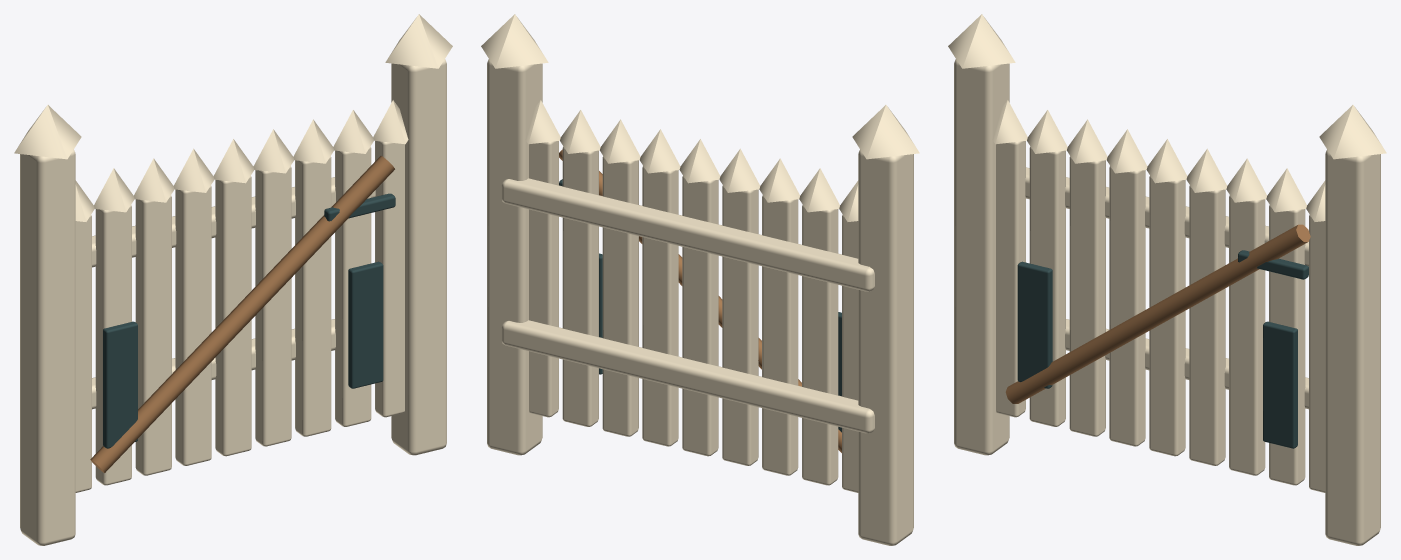
The model's file is almanac-gardens-garden-gate-0aa9f052__22014.glb.
The picture shows the model from 3 angles, left to right: view 1: azimuth 30°, elevation 25°; view 2: azimuth 150°, elevation 25°; view 3: azimuth 330°, elevation 25°; orthographic projection.
Visible parts, largest first — view 1: garden-gate-ivory, garden-gate-iron, garden-gate-oak; view 2: garden-gate-ivory, garden-gate-iron, garden-gate-oak; view 3: garden-gate-ivory, garden-gate-iron, garden-gate-oak.
Boxes of the visible parts, x1,y1,x2,y2 form: garden-gate-ivory: [14, 14, 452, 545]; garden-gate-iron: [103, 193, 395, 448]; garden-gate-oak: [90, 156, 394, 472]; garden-gate-ivory: [481, 14, 919, 545]; garden-gate-iron: [559, 179, 841, 432]; garden-gate-oak: [559, 149, 841, 452]; garden-gate-ivory: [948, 14, 1386, 545]; garden-gate-iron: [1017, 250, 1308, 448]; garden-gate-oak: [1005, 224, 1310, 403].
Size of the model in its own units: 1.36 by 1.28 by 0.21.
